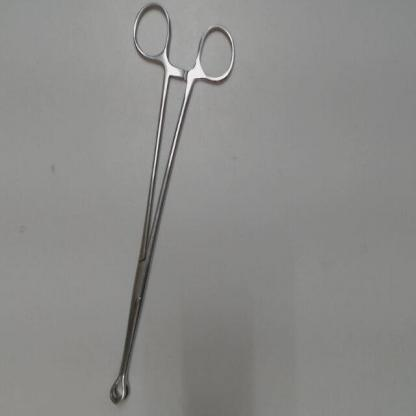8 Babcock Tissue Forceps: (103, 0, 243, 413)
